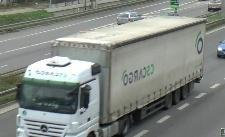car: (116, 12, 142, 25), (216, 40, 225, 59)
truck: (16, 17, 205, 137)
